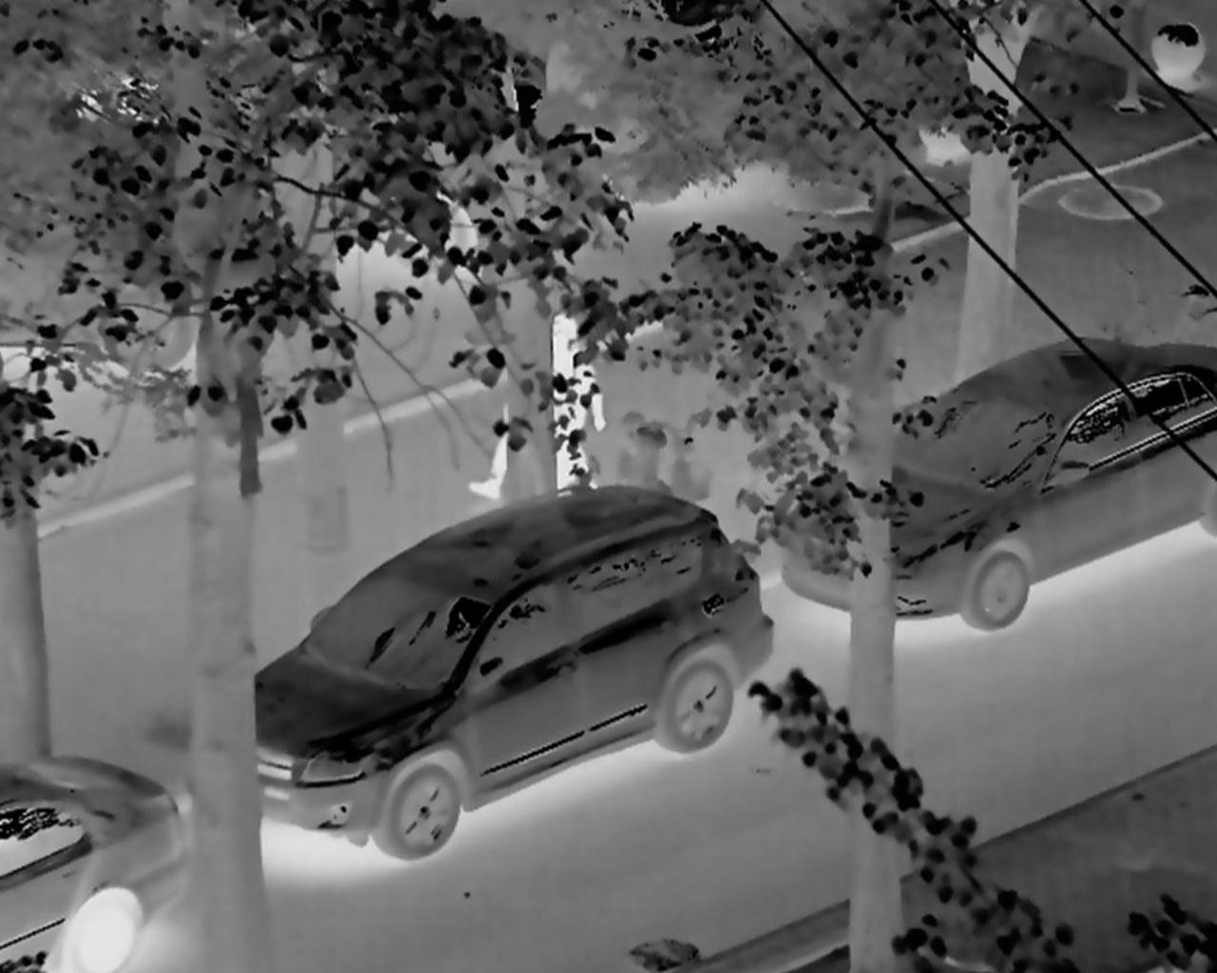person: (537, 291, 608, 509)
